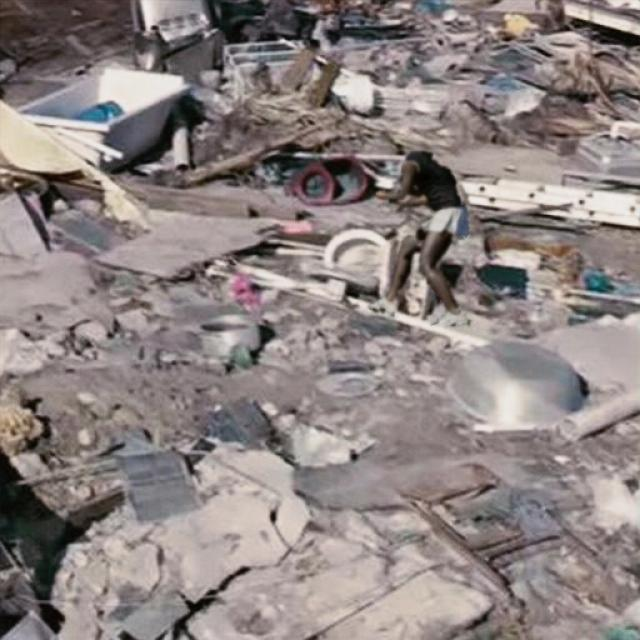Person in Rubble: (368, 151, 470, 325)
